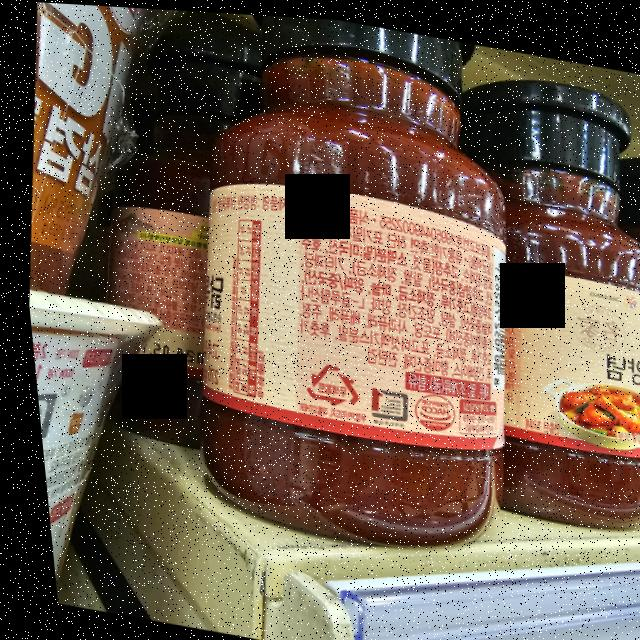ColorlessPET: (292, 354, 358, 408)
